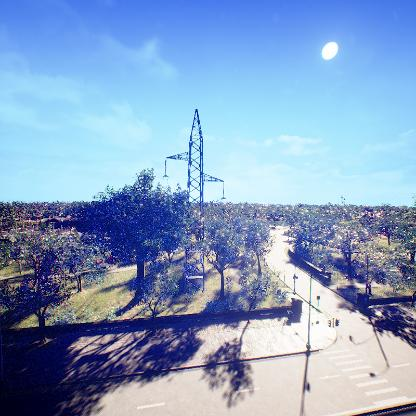tower: (161, 105, 230, 295)
